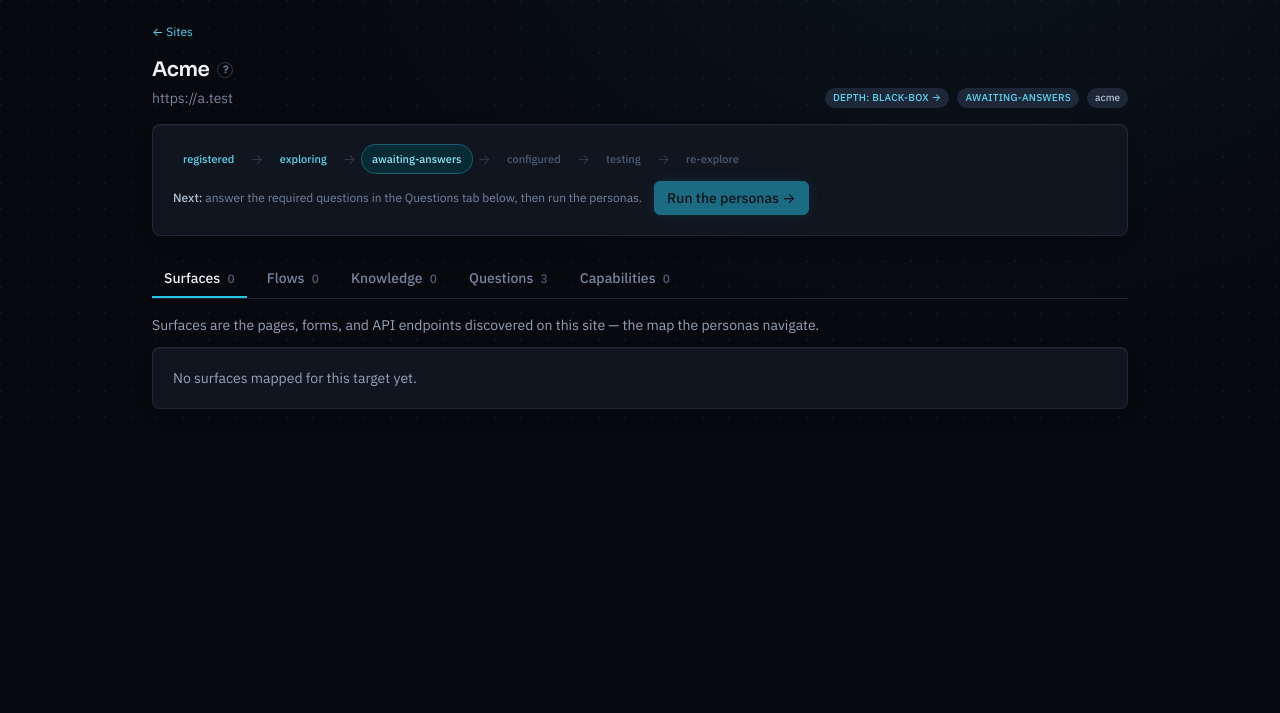
Test case: <SiteTarget> Questions tab › masks a vaulted secret answer (never shows the value)
What coordinates should you click on to do the following:
click the button "Questions 3"
I would click on:
 (508, 279)
Its box is [457,260,560,298].
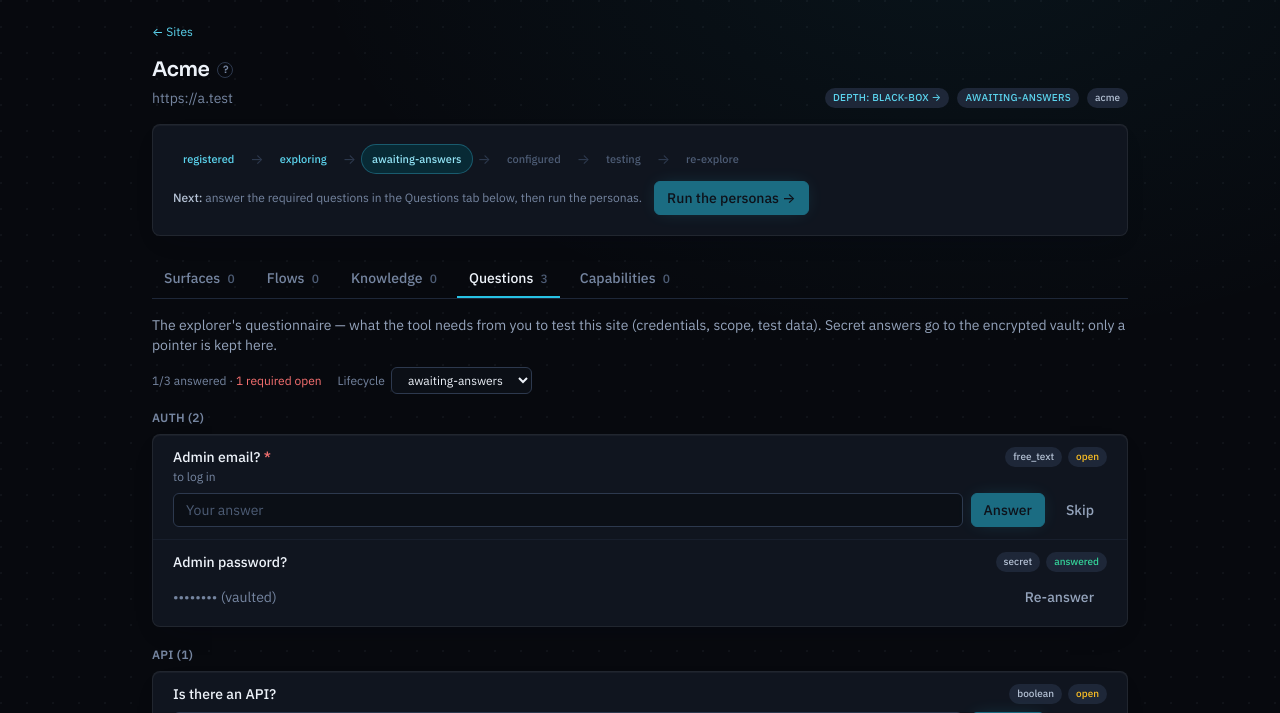
Expected: the element with test id "q-admin-pw-answer" shows "vaulted", [173,588,277,606]
